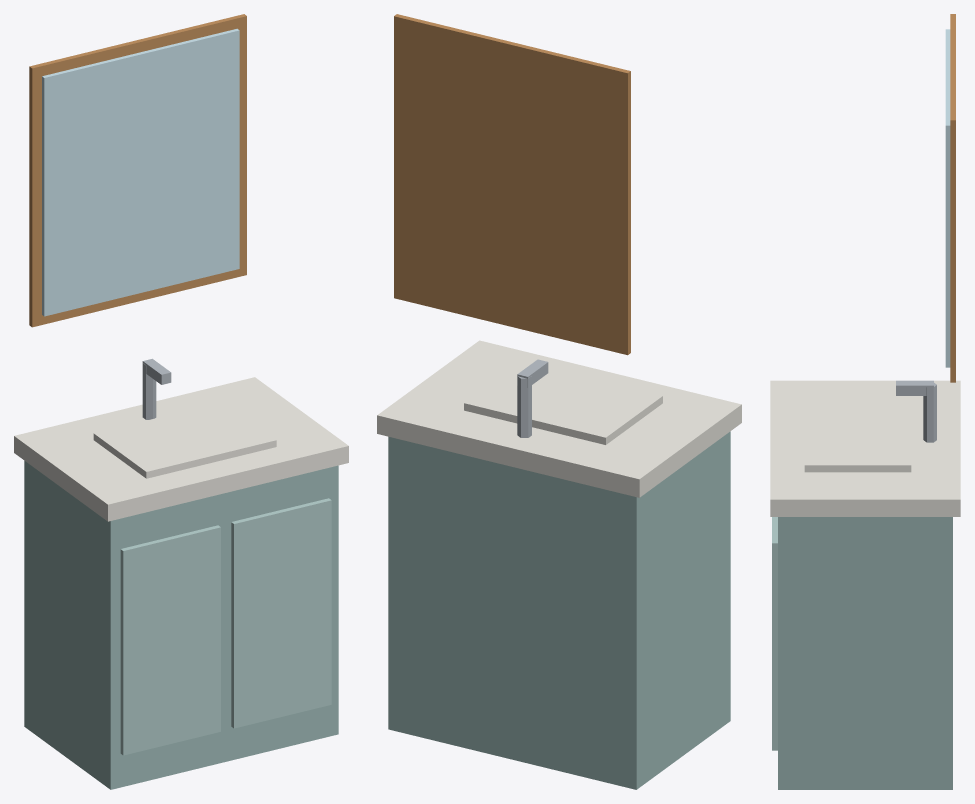
The model's file is vanity.fbx.
The picture shows the model from 3 angles, left to right: view 1: azimuth 30°, elevation 25°; view 2: azimuth 150°, elevation 25°; view 3: azimuth 270°, elevation 25°; orthographic projection. The views are drawn at different scales.
Parts seen in each view (by area): view 1: vanity; view 2: vanity; view 3: vanity.
Part boxes in pixels (x1=…): vanity: x1=14, y1=14, x2=348, y2=789; vanity: x1=377, y1=14, x2=741, y2=789; vanity: x1=770, y1=14, x2=960, y2=789.
Size of the model in its own units: 2.96 by 7.72 by 2.
